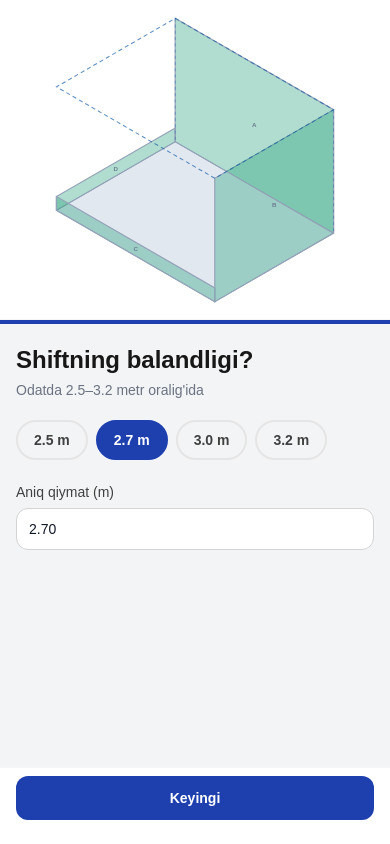
Scenario: WizardPage – Step 1 (Wall A) › shows add element button on wall step
The image size is (390, 844).
Click the button "Keyingi".
click(195, 798)  # box [16,776,374,820]
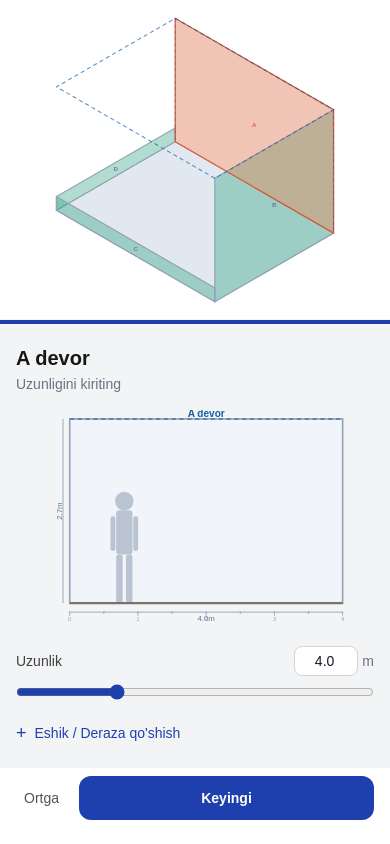
Now the button "+ Eshik / Deraza qo'shish" is shown, box [16,723,180,743]
